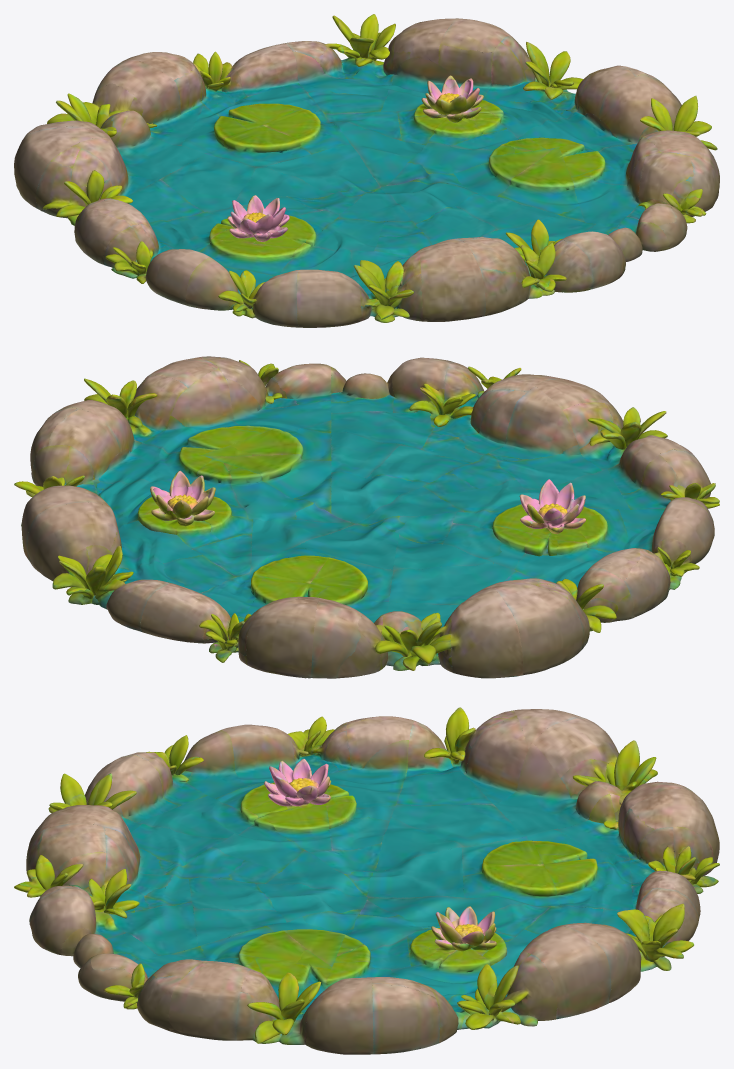
Rendered from lotus-pond.glb.
3 views of the same model, one above another, from view 1: azimuth 30°, elevation 25°; view 2: azimuth 150°, elevation 25°; view 3: azimuth 270°, elevation 25° (orthographic). The views are drawn at different scales.
Parts seen in each view (by area): view 1: mesh_node; view 2: mesh_node; view 3: mesh_node.
Boxes of the visible parts, x1,y1,x2,y2 form: mesh_node: [14, 14, 719, 327]; mesh_node: [14, 356, 719, 678]; mesh_node: [14, 707, 719, 1054].
Bounding box in the file's own units: 1.9 × 0.1752 × 1.82.
1 material, 1 textured.
